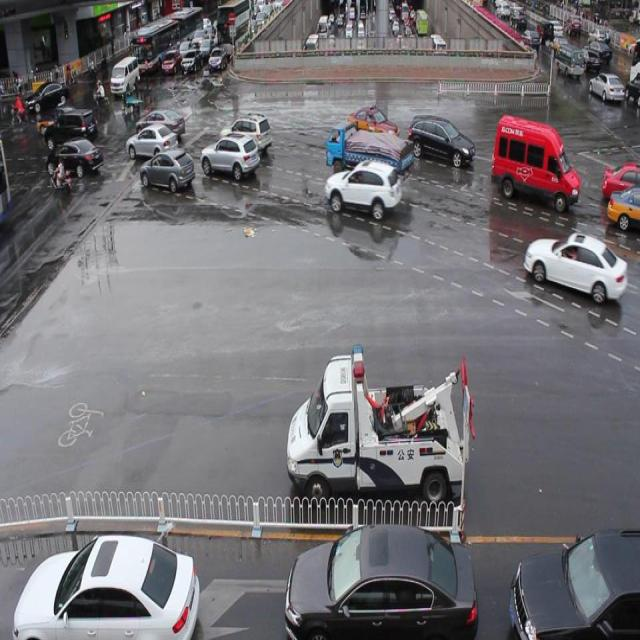bus: (287, 338, 475, 506), (327, 120, 414, 186)
car: (287, 524, 477, 640), (12, 532, 198, 640), (509, 526, 640, 640), (524, 230, 626, 300), (325, 159, 400, 220), (410, 111, 474, 166), (200, 133, 258, 180), (140, 149, 195, 192), (220, 112, 272, 152), (348, 105, 399, 143), (127, 124, 178, 159), (601, 158, 640, 198), (135, 109, 185, 140), (604, 186, 640, 228)
truck: (491, 114, 579, 208)
